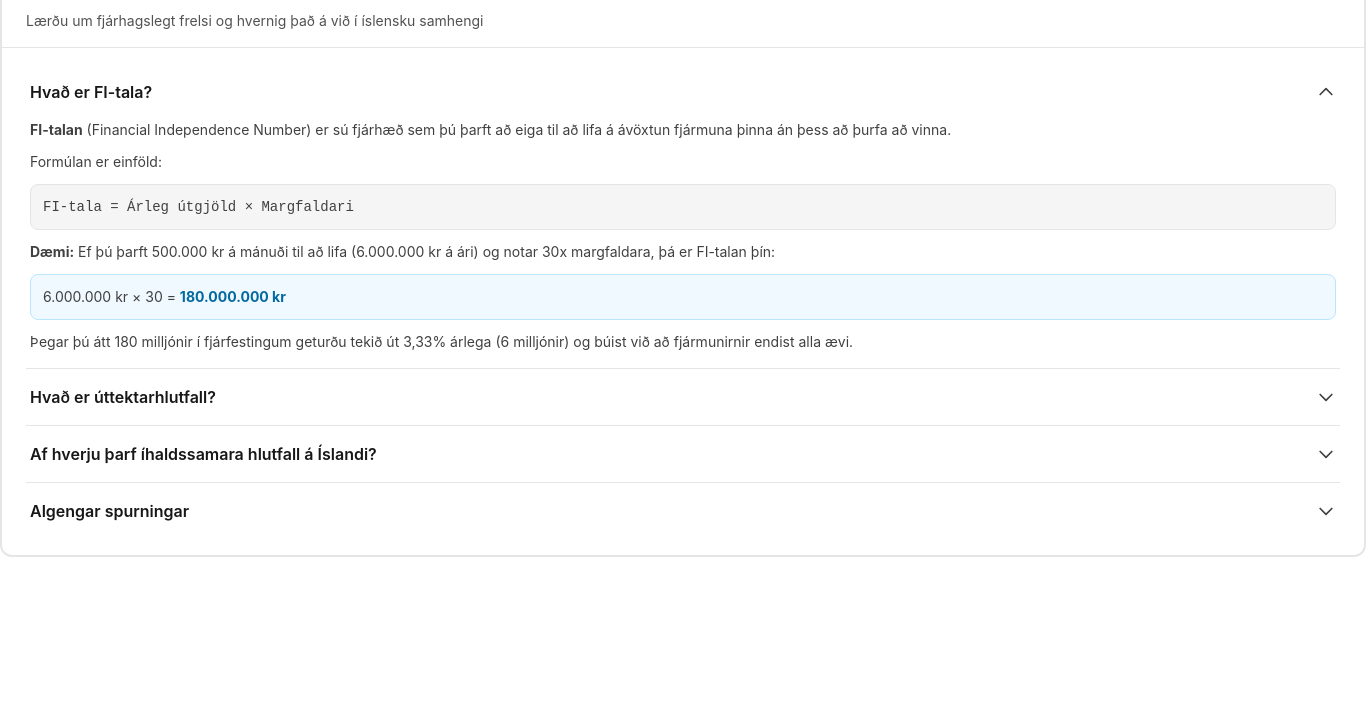
it: EducationalPanel › Content - Section 4: FAQ › shows FAQ questions and answers when expanded
Click the button "Algengar spurningar" at (110, 511), box [26,483,1340,539]
(page scrolled)
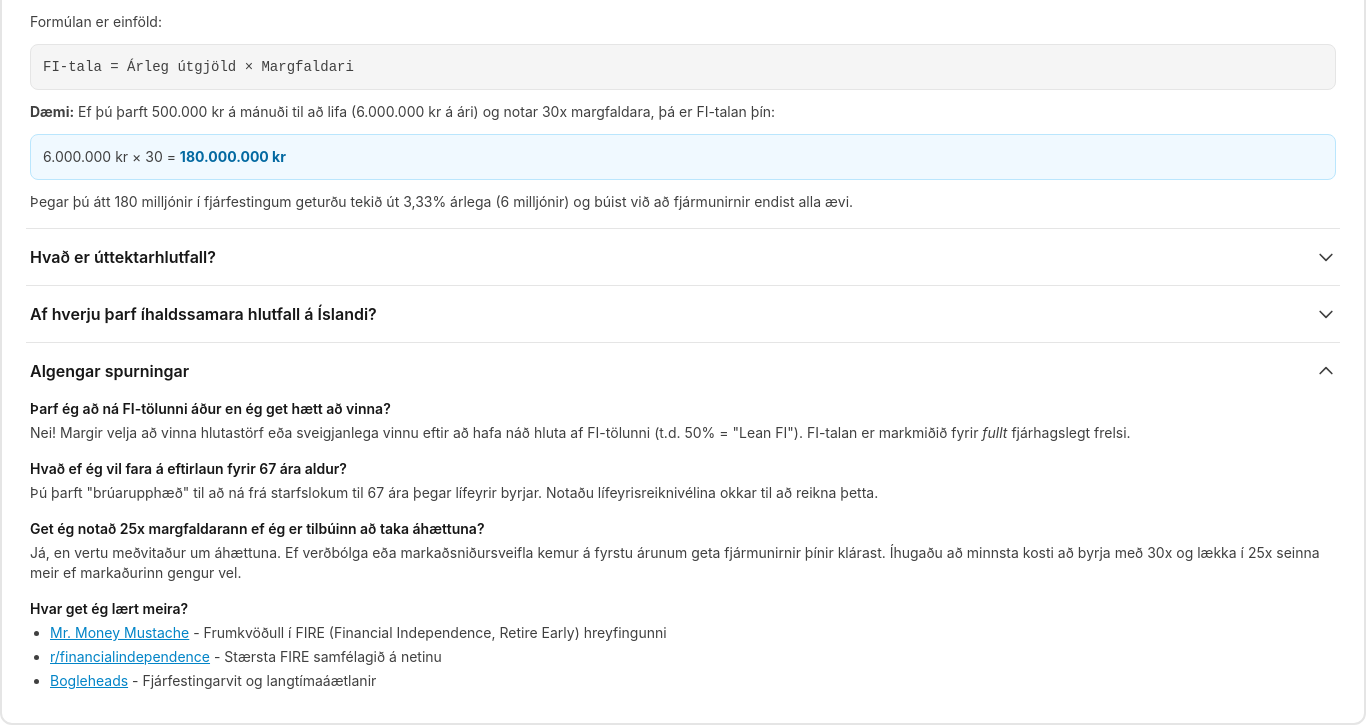
expect the heading "Þarf ég að ná FI-tölunni áður en ég get hætt að vinna?" is shown: met, box [30,400,391,417]
expect the heading "Hvað ef ég vil fara á eftirlaun fyrir 67 ára aldur?" is shown: met, box [30,460,347,477]
expect the heading "Get ég notað 25x margfaldarann" is shown: met, box [30,520,484,537]
